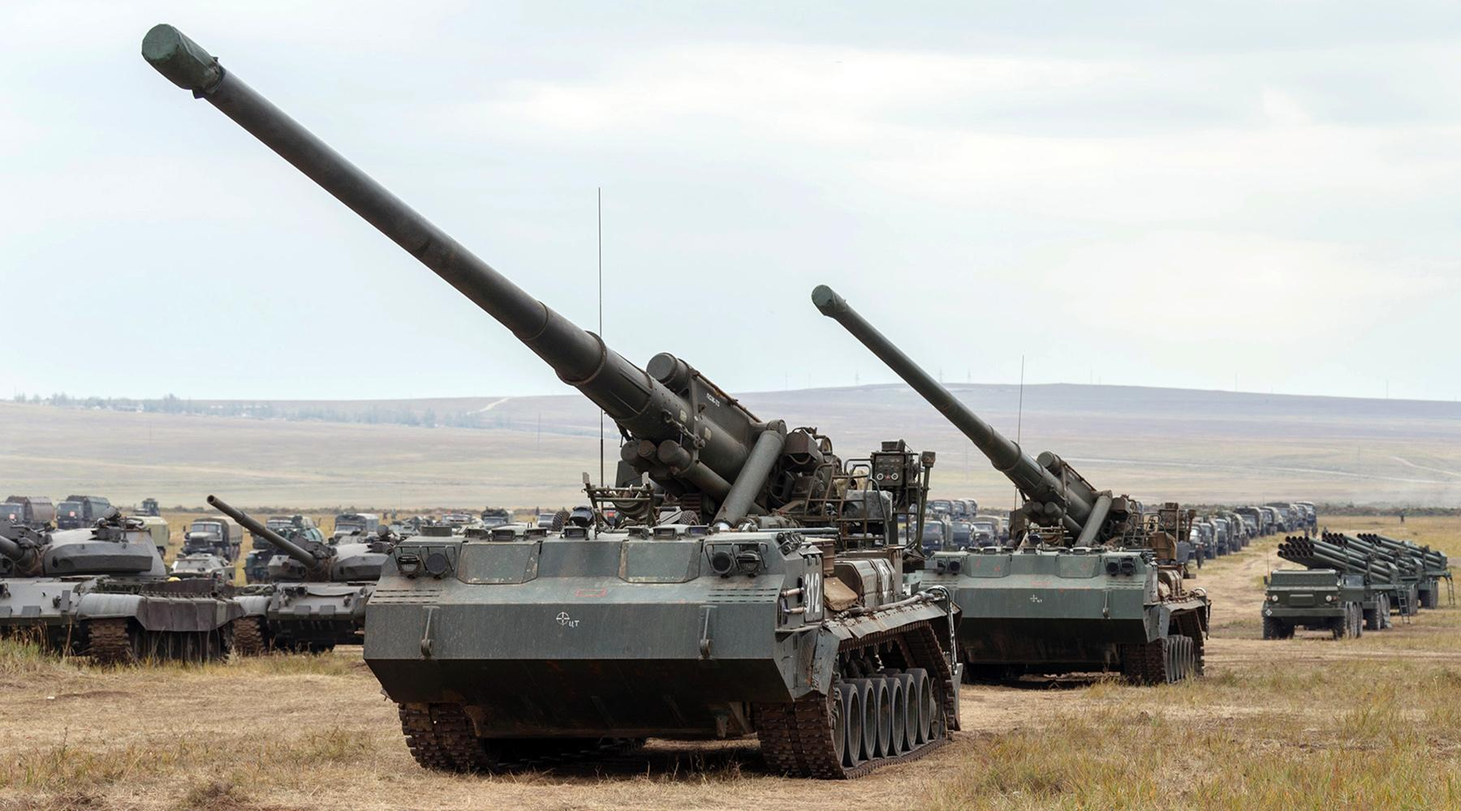rszo: (1260, 523, 1375, 650), (1320, 515, 1408, 638), (1355, 520, 1450, 620)
sau: (92, 8, 990, 782), (801, 268, 1224, 703)
tank: (196, 486, 404, 652), (11, 530, 197, 649)
truck: (174, 505, 246, 577), (1196, 504, 1252, 568), (320, 504, 384, 547), (55, 486, 108, 535), (2, 491, 54, 532), (920, 518, 966, 557), (1255, 494, 1302, 529), (929, 494, 963, 528), (957, 490, 987, 525)
